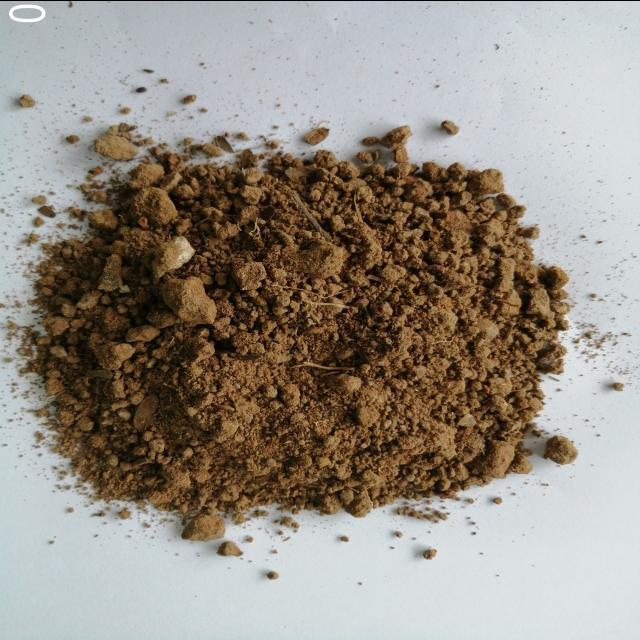soil: (109, 205, 476, 452)
